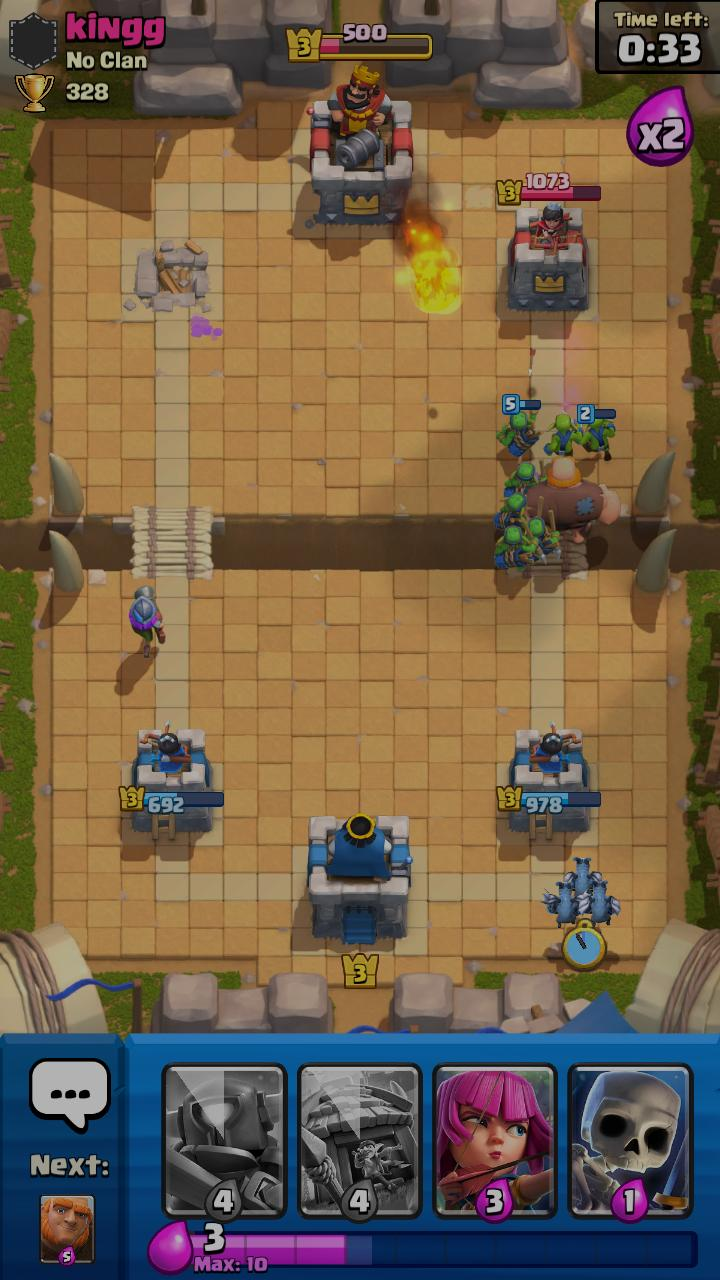ally: (527, 455, 621, 542), (496, 394, 543, 457), (494, 518, 547, 570), (129, 585, 166, 658), (540, 881, 592, 928), (575, 404, 616, 461), (521, 509, 561, 562), (578, 879, 621, 927), (493, 492, 545, 530), (545, 410, 583, 457), (504, 457, 547, 497), (565, 857, 602, 896)
